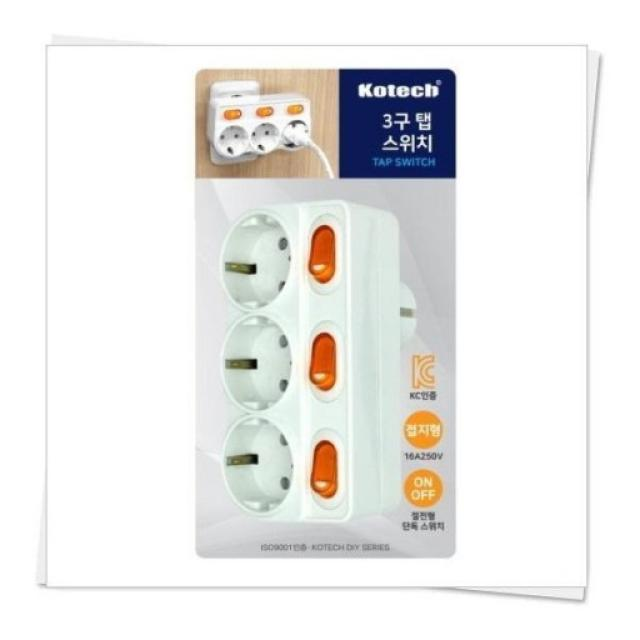typeb: (194, 196, 406, 540), (181, 81, 328, 167)
